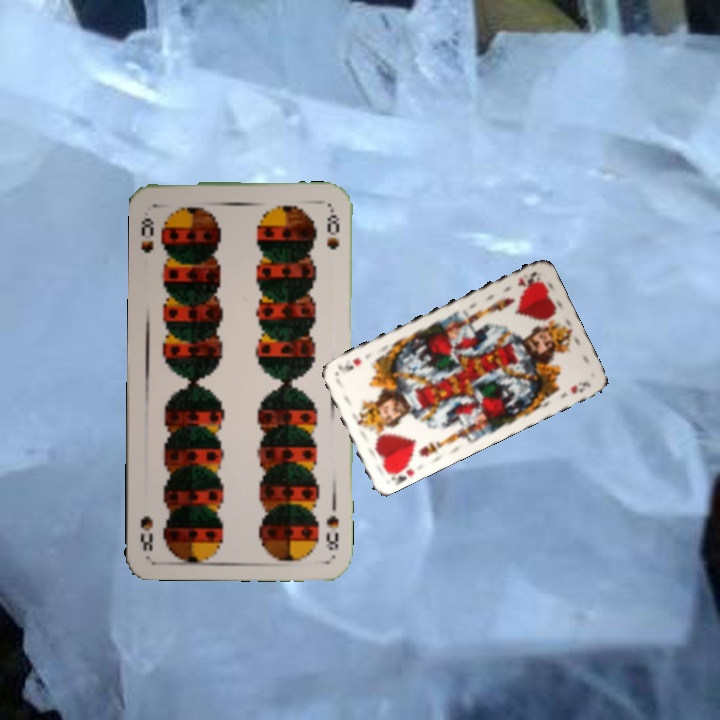HK: (383, 457, 417, 485), (514, 267, 540, 290)
S8: (321, 511, 342, 553), (137, 213, 156, 255)
